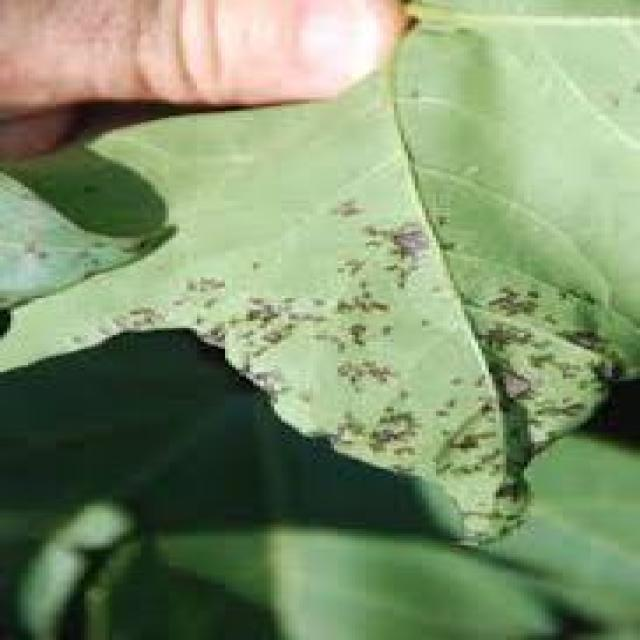Bacterial Blight: (224, 211, 606, 615)
